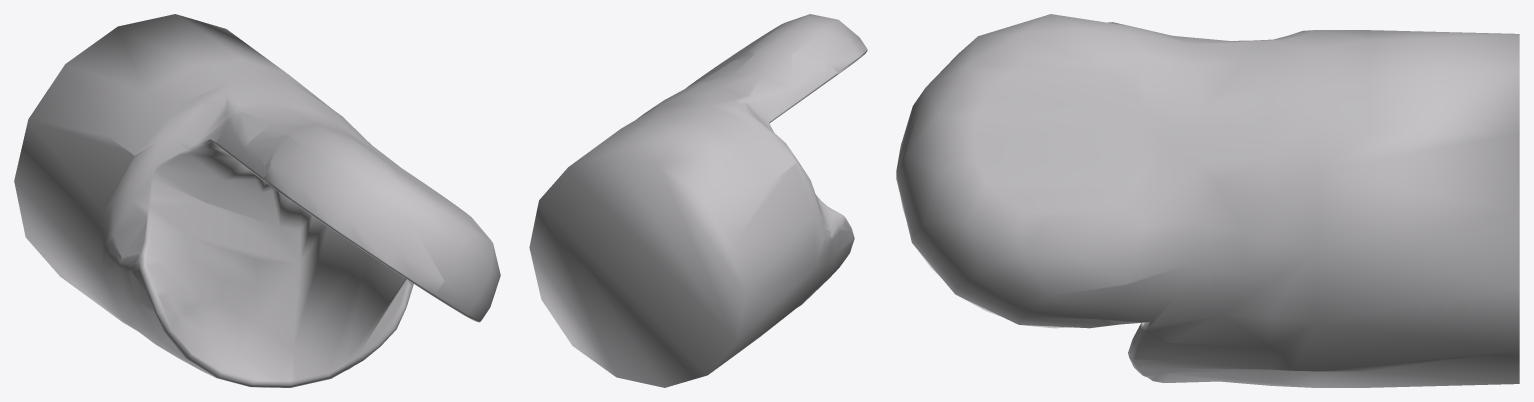
File: Right_Shoulder_Upper.dae
The picture shows the model from 3 angles, left to right: view 1: azimuth 30°, elevation 25°; view 2: azimuth 150°, elevation 25°; view 3: azimuth 270°, elevation 25°; orthographic projection. The views are drawn at different scales.
Visible parts, largest first — view 1: Mesh; view 2: Mesh; view 3: Mesh.
Boxes of the visible parts, x1=… form: Mesh: x1=14, y1=14, x2=500, y2=387; Mesh: x1=529, y1=14, x2=867, y2=387; Mesh: x1=896, y1=14, x2=1519, y2=387.
Size of the model in its own units: 0.1888 by 0.1885 by 0.3094.
Materials: 1 (1 with a texture image).
